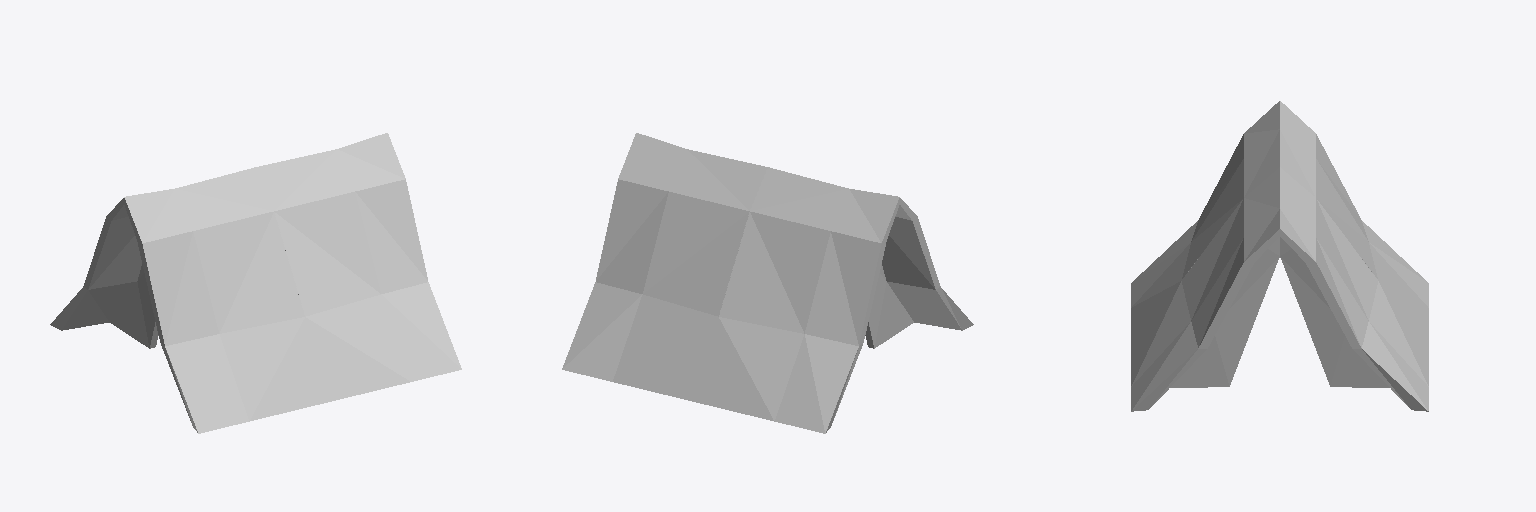
The model's file is tent.obj.
3 views of the same model, side by side, from view 1: azimuth 30°, elevation 25°; view 2: azimuth 150°, elevation 25°; view 3: azimuth 270°, elevation 25° (orthographic).
Parts seen in each view (by area): view 1: Cube; view 2: Cube; view 3: Cube.
Part boxes in pixels (bbox=[...]): Cube: bbox=[50, 133, 461, 433]; Cube: bbox=[562, 133, 973, 433]; Cube: bbox=[1131, 101, 1428, 411].
Size of the model in its own units: 0.7526 by 0.4987 by 0.7357.